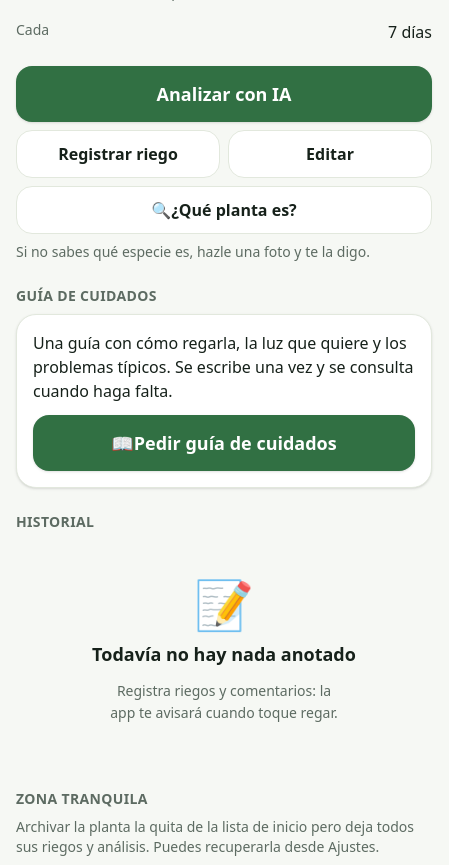
Test case: <DetallePlanta> › sin clave de IA manda a Ajustes en vez de escribir la guía
The image size is (449, 865).
(page scrolled)
Click the button "📖 Pedir guía de cuidados" at [224, 442], box 33,414 -> 415,470
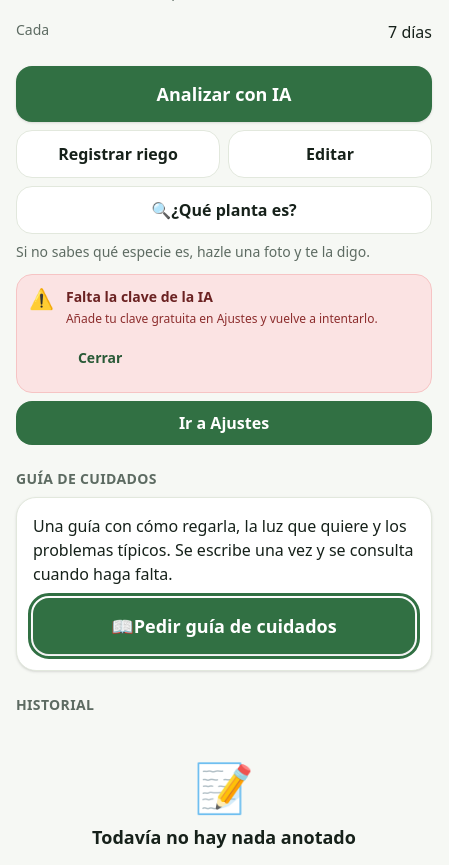
Expected: the text "Falta la clave de la IA" is shown, 66,286 -> 213,306
